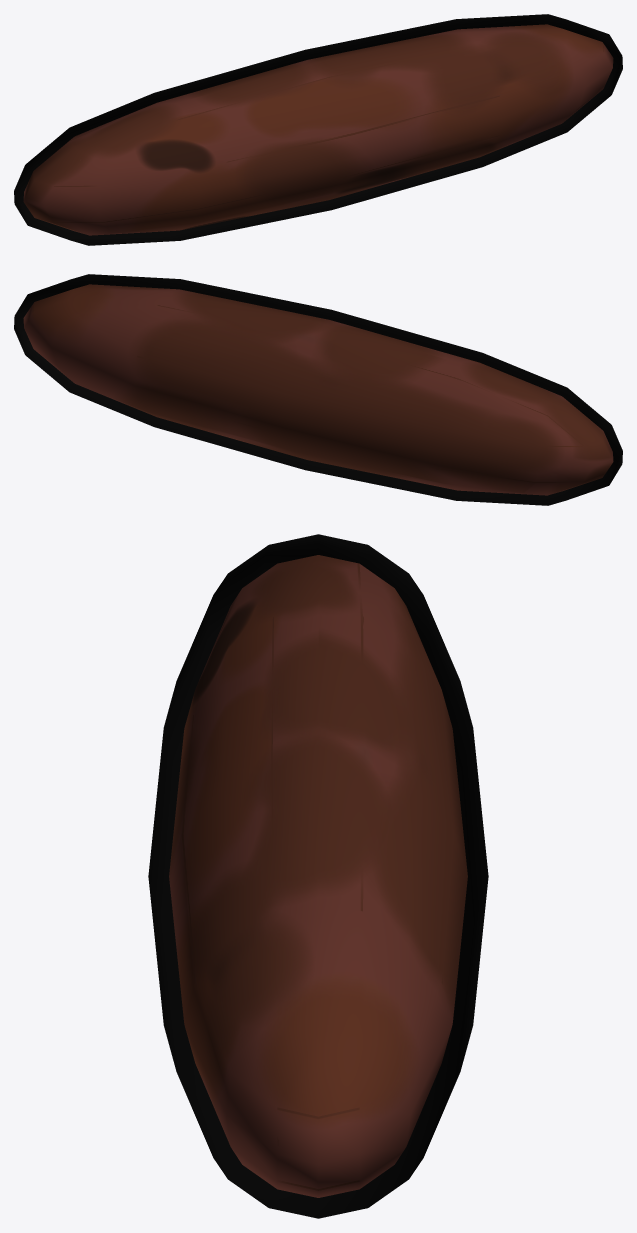
Rendered from Shit.fbx.
3 views of the same model, one above another, from view 1: azimuth 30°, elevation 25°; view 2: azimuth 150°, elevation 25°; view 3: azimuth 270°, elevation 25° (orthographic). The views are drawn at different scales.
Parts seen in each view (by area): view 1: Shit; view 2: Shit; view 3: Shit.
Boxes of the visible parts, x1,y1,x2,y2 form: Shit: (14,14,622,245); Shit: (14,274,622,505); Shit: (148,534,488,1218).
Size of the model in its own units: 67.99 by 16.48 by 16.48.
Materials: 2 (1 with a texture image).
